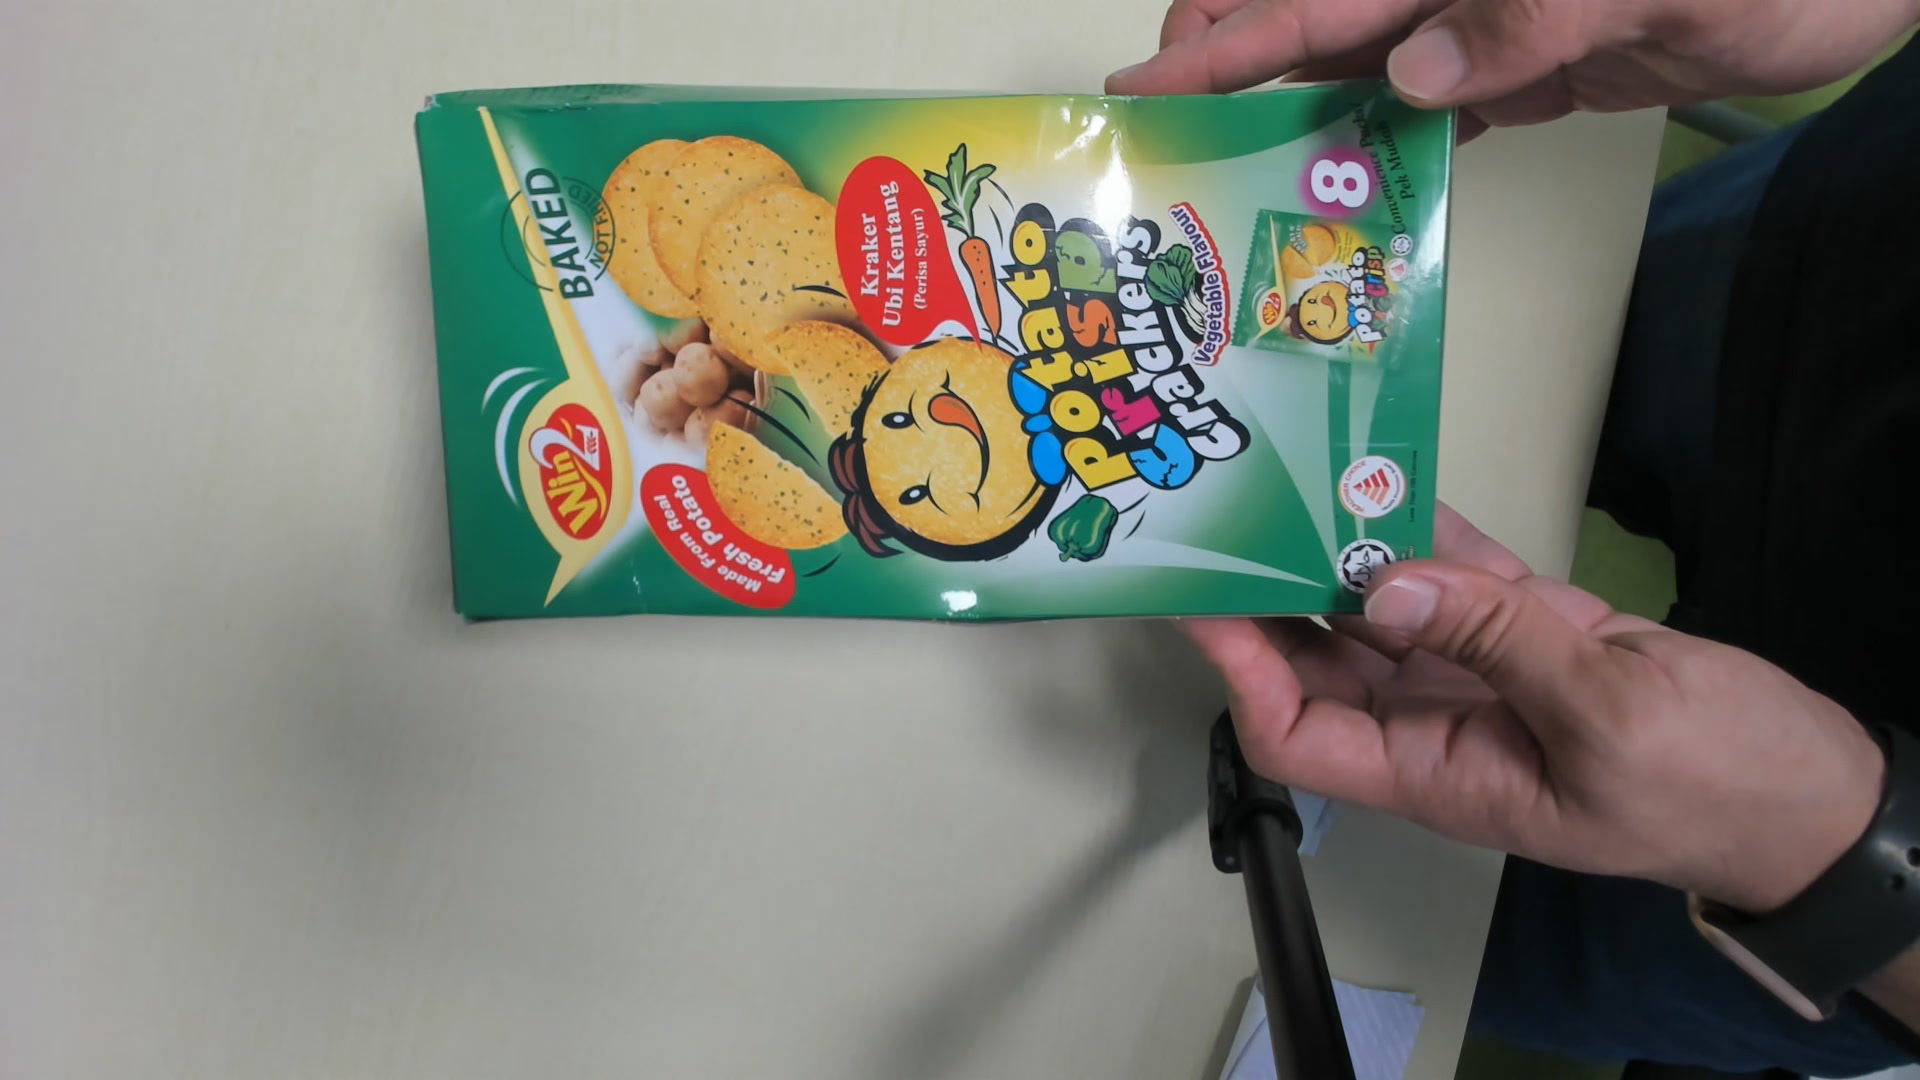PotatoChipsKeropok_100-200g_Halal_Healthy: (396, 90, 1466, 649)
